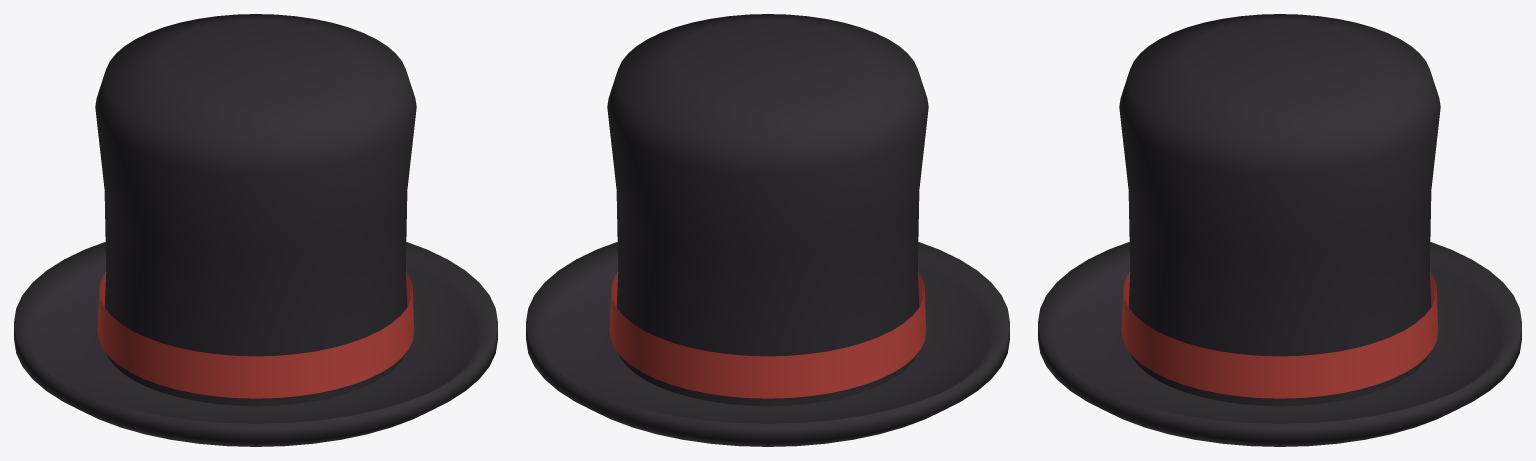
The model's file is tophat.glb.
The picture shows the model from 3 angles, left to right: view 1: azimuth 30°, elevation 25°; view 2: azimuth 150°, elevation 25°; view 3: azimuth 270°, elevation 25°; orthographic projection.
Visible parts, largest first — view 1: tophat_Crown, tophat_Brim, tophat_Band; view 2: tophat_Crown, tophat_Brim, tophat_Band; view 3: tophat_Crown, tophat_Brim, tophat_Band.
Part boxes in pixels (x1,y1,x2,y2): tophat_Crown: (95, 14, 416, 406); tophat_Brim: (14, 242, 497, 446); tophat_Band: (97, 271, 414, 398); tophat_Crown: (607, 14, 928, 406); tophat_Brim: (526, 242, 1009, 446); tophat_Band: (609, 271, 926, 398); tophat_Crown: (1119, 14, 1440, 406); tophat_Brim: (1038, 242, 1521, 446); tophat_Band: (1121, 271, 1438, 398).
Bounding box in the file's own units: 0.527 × 0.36 × 0.527.
